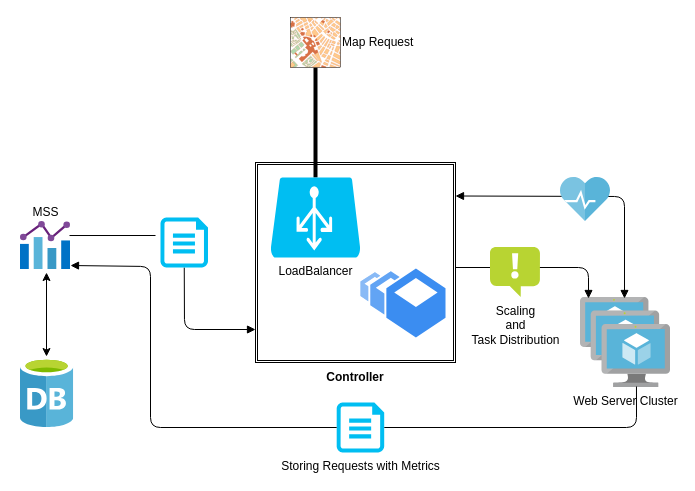
Some shapes in this 695 by 491 pixel diagram are drawn without their labels. The shapes that lost their labels are listed below. From the top down, each one's centre as x and y in pixels, then its label:
At point (585, 199): "HealthCheck".
At point (184, 242): "Retrieve Workload".
At point (402, 302): "AutoScaler".
At point (46, 392): "DynamoDB".
